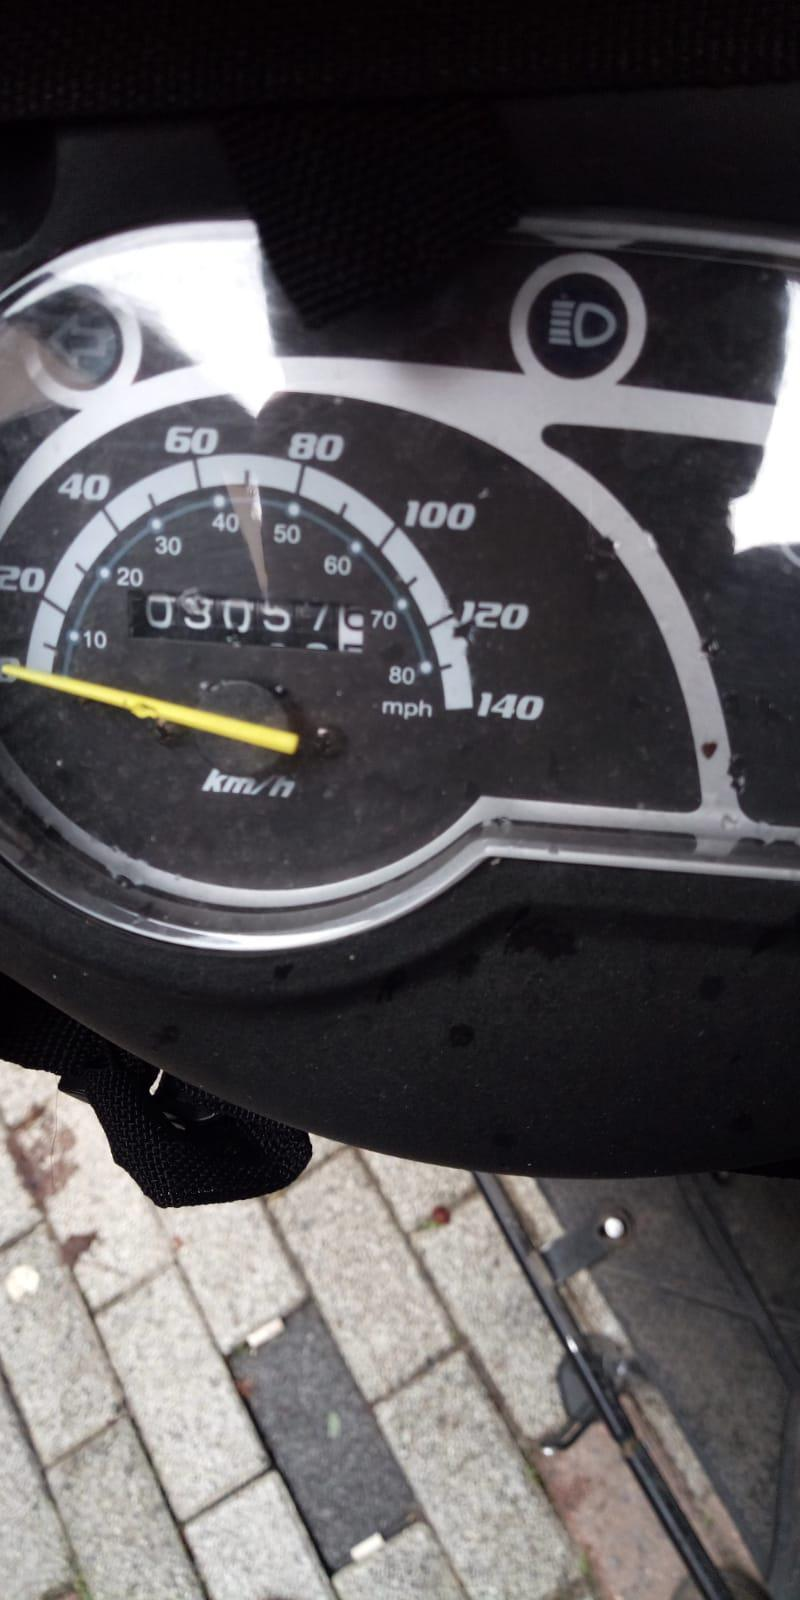0: (220, 592, 257, 638), (143, 589, 176, 632)
3: (183, 592, 213, 635)
5: (262, 593, 296, 635)
6: (344, 594, 371, 638)
7: (305, 595, 334, 633)
odometer: (128, 584, 374, 655)
